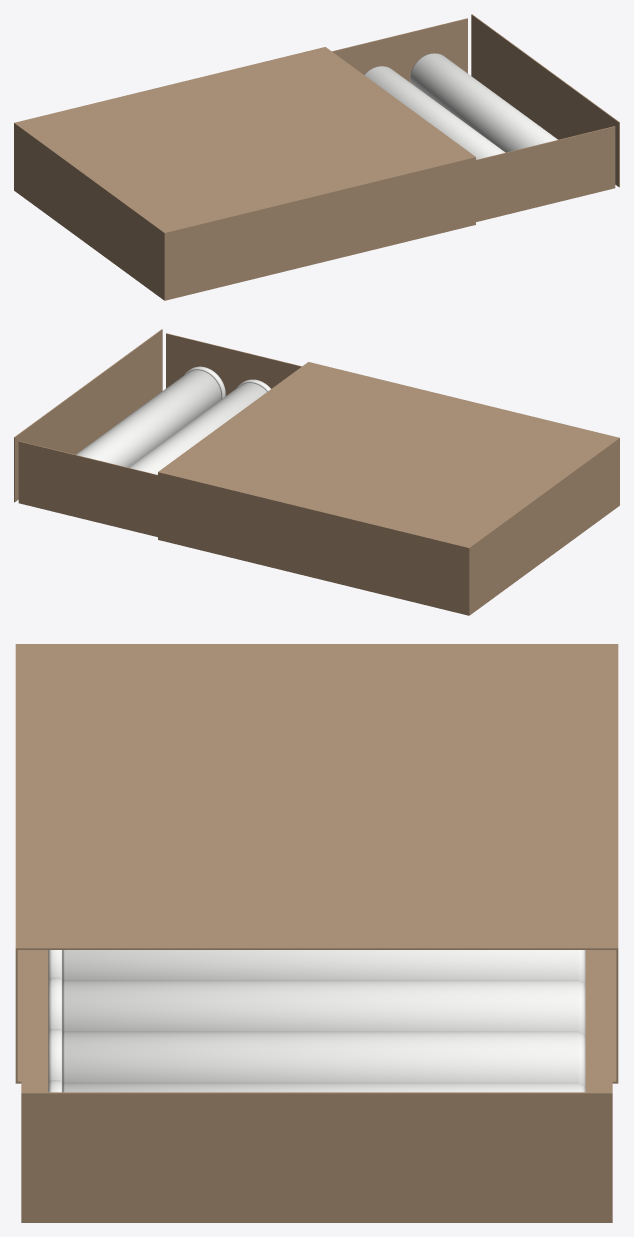
The model's file is preroll-52gr-box-side-open.glb.
The picture shows the model from 3 angles, top to bottom: view 1: azimuth 30°, elevation 25°; view 2: azimuth 150°, elevation 25°; view 3: azimuth 270°, elevation 25°; orthographic projection. The views are drawn at different scales.
Visible parts, largest first — view 1: p2d_s1, p2d_s2, p2d_s4, p2d_d1, p2d_d4, t4_body, p2d_d2, t3_body, p2d_s0; view 2: p2d_s1, p2d_s3, p2d_s4, p2d_d2, p2d_d4, t4_body, p2d_d1, t3_body, p2d_s0; view 3: p2d_s1, p2d_d4, t3_body, t2_body, t1_body, p2d_d0, t4_body, p2d_tab, p2d_s0, p2d_s2, p2d_s3, t2_lid (+1 smaller).
Part boxes in pixels (x1,y1,x2,y2): p2d_s1: (14, 47, 475, 233); p2d_s2: (164, 157, 475, 300); p2d_s4: (14, 122, 165, 300); p2d_d1: (476, 126, 615, 221); p2d_d4: (471, 14, 619, 187); t4_body: (410, 53, 557, 152); p2d_d2: (332, 18, 467, 82); t3_body: (364, 66, 505, 159); p2d_s0: (14, 190, 475, 300); p2d_s1: (158, 362, 619, 548); p2d_s3: (158, 472, 469, 615); p2d_s4: (468, 437, 619, 614); p2d_d2: (18, 441, 157, 536); p2d_d4: (14, 329, 162, 502); t4_body: (76, 370, 221, 467); p2d_d1: (166, 333, 301, 395); t3_body: (128, 383, 266, 474); p2d_s0: (158, 505, 619, 615); p2d_s1: (15, 644, 618, 949); p2d_d4: (21, 1092, 612, 1222); t3_body: (62, 1031, 585, 1088); t2_body: (62, 980, 585, 1037); t1_body: (62, 950, 585, 985); p2d_d0: (23, 950, 610, 1092); t4_body: (62, 1082, 585, 1092); p2d_tab: (317, 1113, 370, 1210); p2d_s0: (15, 950, 617, 1083); p2d_s2: (15, 644, 17, 1082); p2d_s3: (616, 644, 618, 1082); t2_lid: (48, 977, 62, 1032).
Size of the model in its own units: 0.2258 by 0.032 by 0.129.
